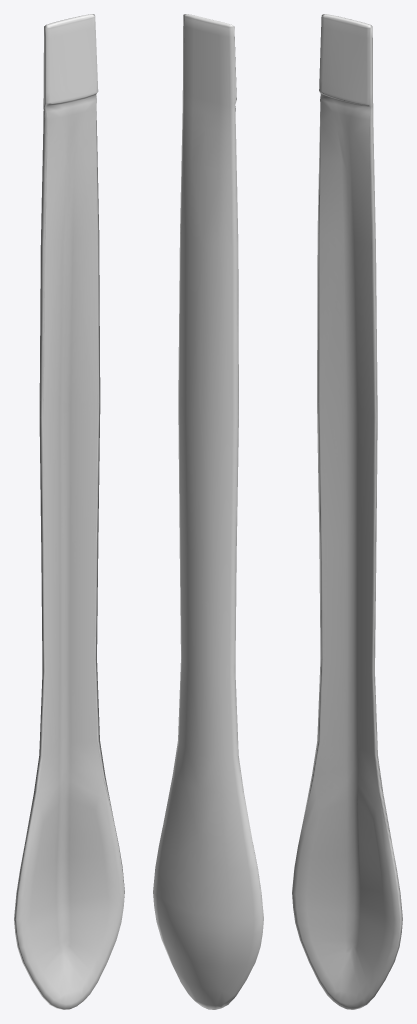
The model's file is Spatula_flat_spoon_S1.fbx.
3 views of the same model, side by side, from view 1: azimuth 30°, elevation 25°; view 2: azimuth 150°, elevation 25°; view 3: azimuth 330°, elevation 25° (orthographic).
Parts seen in each view (by area): view 1: Spatula_flat_spoon_LOD0; view 2: Spatula_flat_spoon_LOD0; view 3: Spatula_flat_spoon_LOD0.
Part boxes in pixels (x1=…): Spatula_flat_spoon_LOD0: x1=14, y1=14, x2=124, y2=1009; Spatula_flat_spoon_LOD0: x1=153, y1=14, x2=263, y2=1009; Spatula_flat_spoon_LOD0: x1=292, y1=14, x2=402, y2=1009.
Size of what is drawn, in the model's own units: 1.69 by 14.41 by 0.3983.
